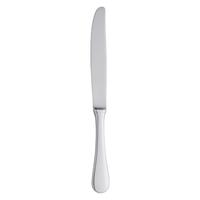knife: (87, 5, 120, 198)
